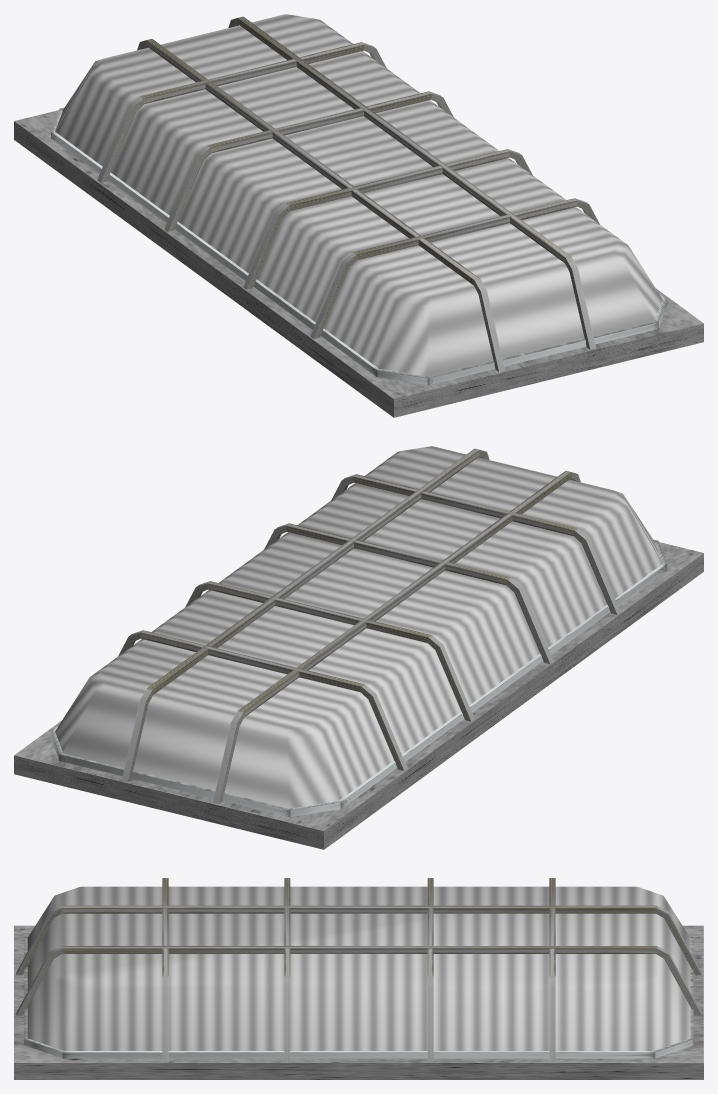
File: ceiling2.fbx
3 renders of one model, top to bottom at view 1: azimuth 30°, elevation 25°; view 2: azimuth 150°, elevation 25°; view 3: azimuth 270°, elevation 25°, orthographic. The views are drawn at different scales.
Parts seen in each view (by area): view 1: ceiling2; view 2: ceiling2; view 3: ceiling2.
Part boxes in pixels (x1,y1,x2,y2): ceiling2: [14, 14, 703, 417]; ceiling2: [14, 446, 703, 849]; ceiling2: [14, 878, 703, 1079].
Size of the model in its own units: 84.42 by 24.07 by 179.
